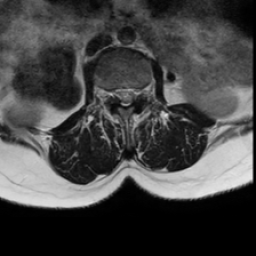CCS_normal: (121, 78, 128, 114)
LFS_stenosis: (136, 78, 144, 106)
LLS_normal: (128, 78, 136, 107)
RFS_stenosis: (105, 81, 113, 107)
RLS_normal: (113, 81, 121, 107)
